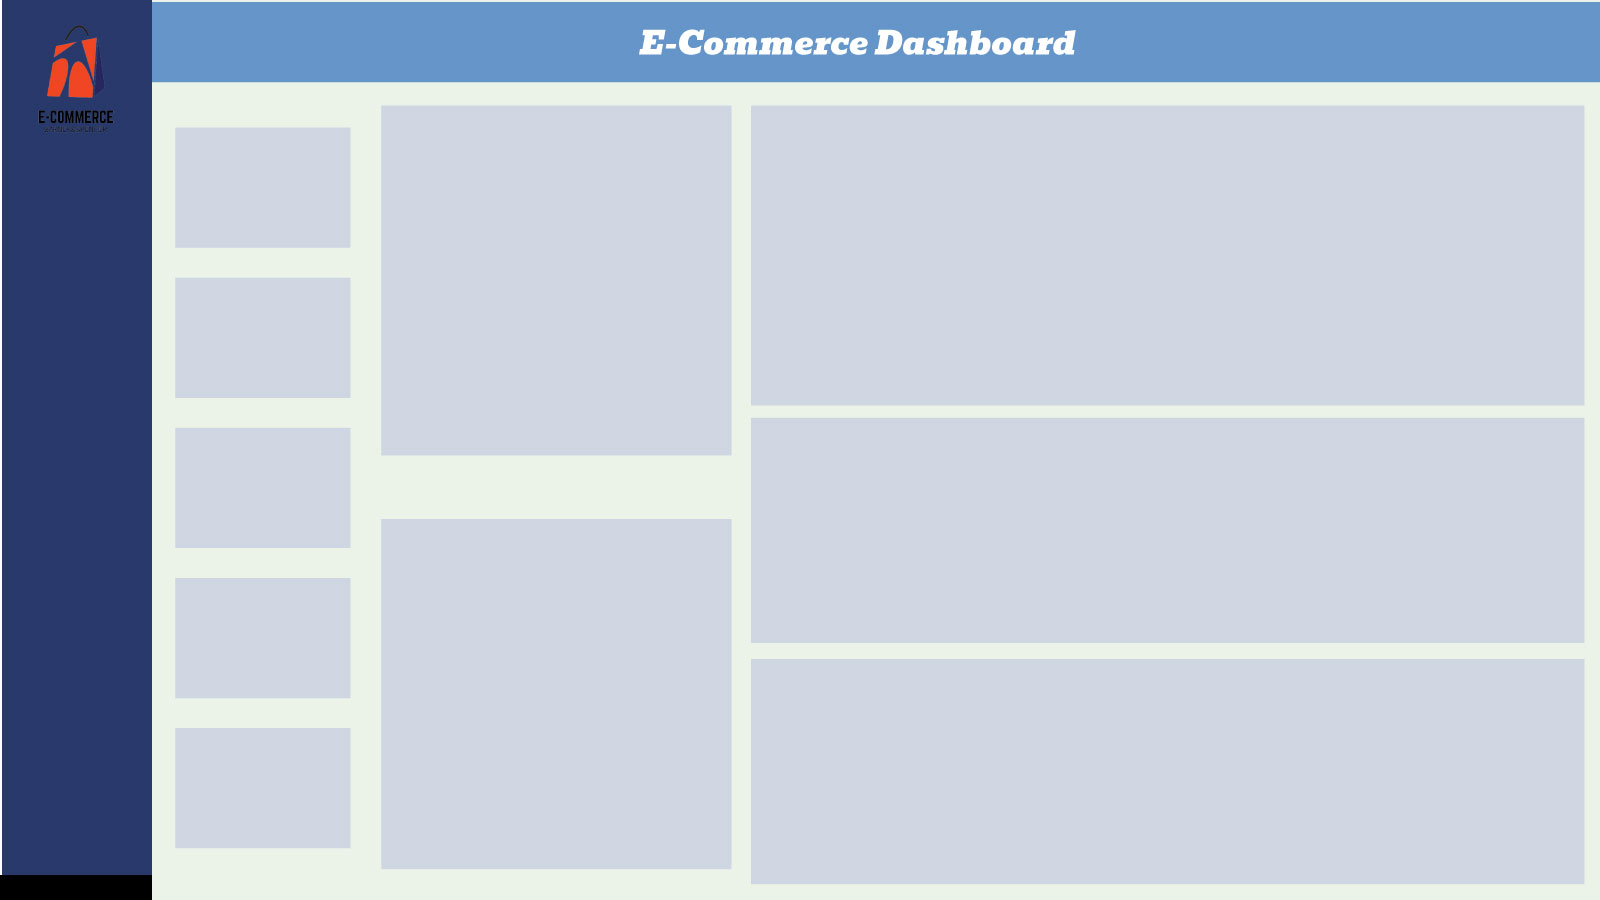

What the dashboard file says about the page in this screenshot:
{"tool":"tableau","page":{"name":"Dashboard 1","canvas":[1600,900],"ordinal":0},"visuals":[{"type":"image","param":"C:/Users/Acer/Documents/Dashboard_1_Rev4.jpg","box":[8,8,1584,884]},{"type":"filter","title":"Perc of Revenue by Status","param":"[federated.01lc1z11ndwpct1b5iwd70jcf85c].[none:Calculation_857372799416287234:qk","box":[1333,15,241,74]},{"type":"text","box":[942,116,383,34]},{"type":"text","box":[395,117,330,30]},{"type":"text","box":[195,141,164,37]},{"type":"worksheet","title":"Perc of Total Revenue by Payment","mark":"Pie","rows":["Calculation_448952607543672834","Calculation_448952607543726084"],"box":[392,146,341,309]},{"type":"worksheet","title":"Perc of Revenue by Status","mark":"Line","rows":["order_status"],"box":[747,151,813,251]},{"type":"dashboard-object","box":[25,180,143,37]},{"type":"worksheet","title":"Total Revenue","mark":"Automatic","box":[213,191,120,41]},{"type":"dashboard-object","box":[24,222,143,37]},{"type":"dashboard-object","box":[23,262,145,38]},{"type":"text","box":[204,284,145,33]},{"type":"dashboard-object","box":[24,305,144,40]},{"type":"worksheet","title":"Total Orders","mark":"Automatic","box":[198,336,167,37]},{"type":"text","box":[1004,415,297,30]},{"type":"text","box":[204,431,149,33]},{"type":"worksheet","title":"Total Revenue by Month","mark":"Area","rows":["Calculation_867224422215938053","Calculation_867224422215938053"],"cols":["order_purchase_timestamp"],"box":[752,451,806,183]},{"type":"worksheet","title":"Avg Order Item","mark":"Automatic","box":[202,479,150,43]},{"type":"text","box":[415,521,309,30]},{"type":"worksheet","title":"Perc of Total Order by Payment","mark":"Pie","rows":["Calculation_448952607543672834","Calculation_448952607543726084"],"box":[395,551,337,306]},{"type":"text","box":[211,575,140,34]},{"type":"worksheet","title":"Avg Review Score","mark":"Automatic","box":[222,626,109,41]},{"type":"text","box":[1030,650,276,34]},{"type":"worksheet","title":"Total Order by Month","mark":"Area","rows":["Calculation_867224422213812225","Calculation_867224422213812225"],"cols":["order_purchase_timestamp"],"box":[754,679,816,190]},{"type":"text","box":[193,724,167,33]},{"type":"worksheet","title":"Avg Freight Value","mark":"Automatic","box":[223,774,102,43]}]}

Visuals, with their boxes in screenshot pixels (x1, y1, x2, y2), scaled from the page's 1600x900 canvas onto the 1600x900 screenshot:
image: select_region(8, 8, 1592, 892)
"Perc of Revenue by Status" filter: select_region(1333, 15, 1574, 89)
text: select_region(942, 116, 1325, 150)
text: select_region(395, 117, 725, 147)
text: select_region(195, 141, 359, 178)
"Perc of Total Revenue by Payment" worksheet (Pie marks): select_region(392, 146, 733, 455)
"Perc of Revenue by Status" worksheet (Line marks): select_region(747, 151, 1560, 402)
dashboard-object: select_region(25, 180, 168, 217)
"Total Revenue" worksheet: select_region(213, 191, 333, 232)
dashboard-object: select_region(24, 222, 167, 259)
dashboard-object: select_region(23, 262, 168, 300)
text: select_region(204, 284, 349, 317)
dashboard-object: select_region(24, 305, 168, 345)
"Total Orders" worksheet: select_region(198, 336, 365, 373)
text: select_region(1004, 415, 1301, 445)
text: select_region(204, 431, 353, 464)
"Total Revenue by Month" worksheet (Area marks): select_region(752, 451, 1558, 634)
"Avg Order Item" worksheet: select_region(202, 479, 352, 522)
text: select_region(415, 521, 724, 551)
"Perc of Total Order by Payment" worksheet (Pie marks): select_region(395, 551, 732, 857)
text: select_region(211, 575, 351, 609)
"Avg Review Score" worksheet: select_region(222, 626, 331, 667)
text: select_region(1030, 650, 1306, 684)
"Total Order by Month" worksheet (Area marks): select_region(754, 679, 1570, 869)
text: select_region(193, 724, 360, 757)
"Avg Freight Value" worksheet: select_region(223, 774, 325, 817)
